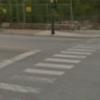crosswalks: (0, 70, 66, 92), (25, 62, 75, 80), (44, 56, 86, 70), (67, 44, 100, 60), (55, 50, 92, 64)
